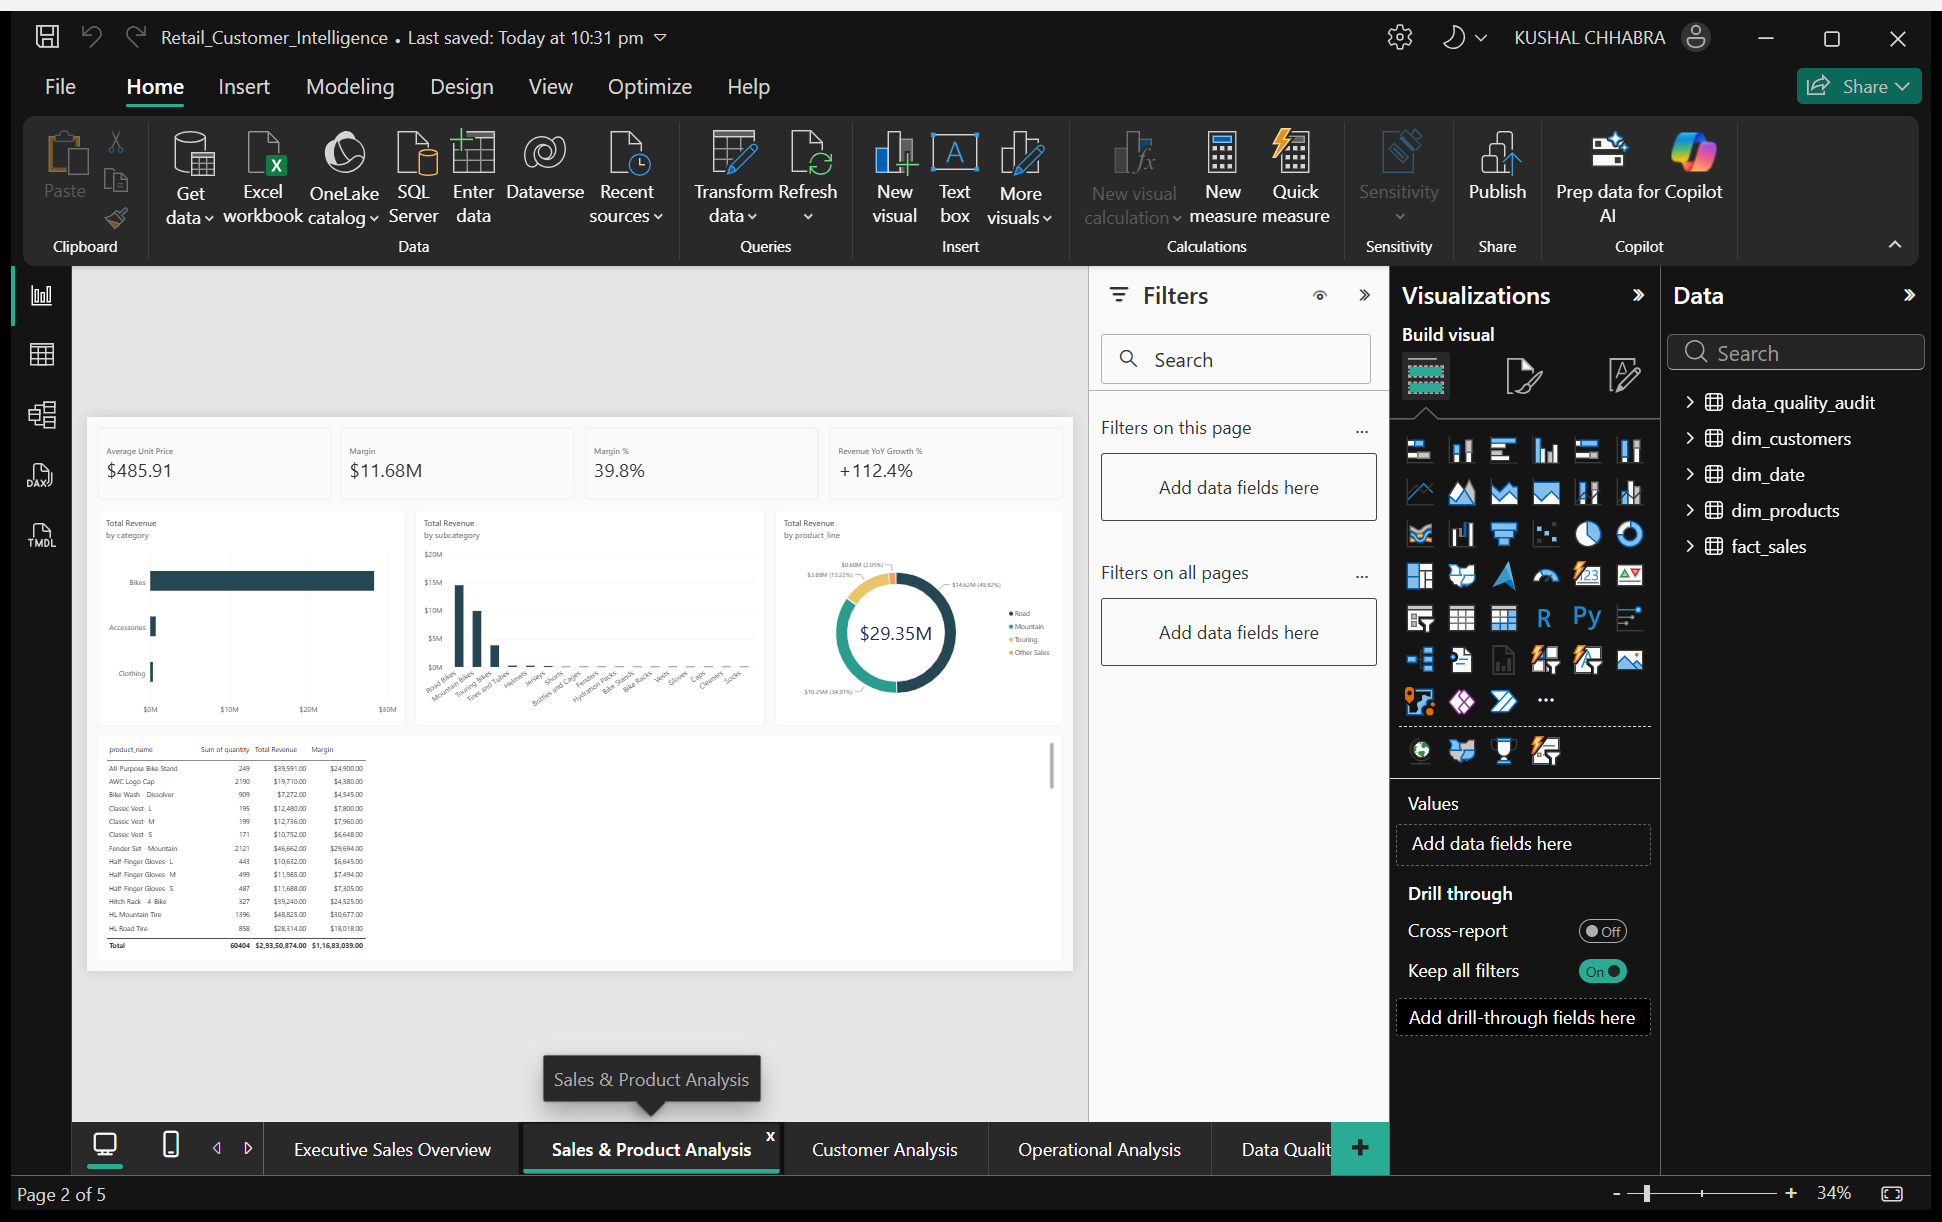

The page's visual inventory and layout, read from the dashboard file:
{"tool":"powerbi","page":{"name":"Sales & Product Analysis","canvas":[1920,1080],"ordinal":1},"visuals":[{"type":"cardVisual","fields":{"Data":["fact_sales.Average Unit Price"]},"box":[20,20,455,140],"z":0},{"type":"cardVisual","fields":{"Data":["fact_sales.Margin"]},"box":[495,20,455,140],"z":1},{"type":"cardVisual","fields":{"Data":["fact_sales.Margin %"]},"box":[970,20,455,140],"z":2},{"type":"cardVisual","fields":{"Data":["fact_sales.Revenue YoY Growth %"]},"box":[1445,20,455,140],"z":3},{"type":"clusteredBarChart","fields":{"Category":["dim_products.category"],"Y":["fact_sales.Total Revenue"]},"box":[20,180,600,420],"z":4},{"type":"columnChart","fields":{"Category":["dim_products.subcategory"],"Y":["fact_sales.Total Revenue"]},"box":[640,180,680,420],"z":5},{"type":"donutChart","fields":{"Category":["dim_products.product_line"],"Y":["fact_sales.Total Revenue"]},"box":[1340,180,560,420],"z":6},{"type":"tableEx","fields":{"Values":["dim_products.product_name","Sum(fact_sales.quantity)","fact_sales.Total Revenue","fact_sales.Margin"]},"box":[20,620,1880,440],"z":7}]}

Visuals, with their boxes on the page's 1920x1080 design canvas (x1, y1, x2, y2). These are canvas units, not pixel positions in the 1942x1222 screenshot, which may show the page scaled, cropped or inside an application window:
cardVisual - fact_sales.Average Unit Price: {"x1": 20, "y1": 20, "x2": 475, "y2": 160}
cardVisual - fact_sales.Margin: {"x1": 495, "y1": 20, "x2": 950, "y2": 160}
cardVisual - fact_sales.Margin %: {"x1": 970, "y1": 20, "x2": 1425, "y2": 160}
cardVisual - fact_sales.Revenue YoY Growth %: {"x1": 1445, "y1": 20, "x2": 1900, "y2": 160}
clusteredBarChart - dim_products.category x fact_sales.Total Revenue: {"x1": 20, "y1": 180, "x2": 620, "y2": 600}
columnChart - dim_products.subcategory x fact_sales.Total Revenue: {"x1": 640, "y1": 180, "x2": 1320, "y2": 600}
donutChart - dim_products.product_line x fact_sales.Total Revenue: {"x1": 1340, "y1": 180, "x2": 1900, "y2": 600}
tableEx - dim_products.product_name x Sum(fact_sales.quantity): {"x1": 20, "y1": 620, "x2": 1900, "y2": 1060}
